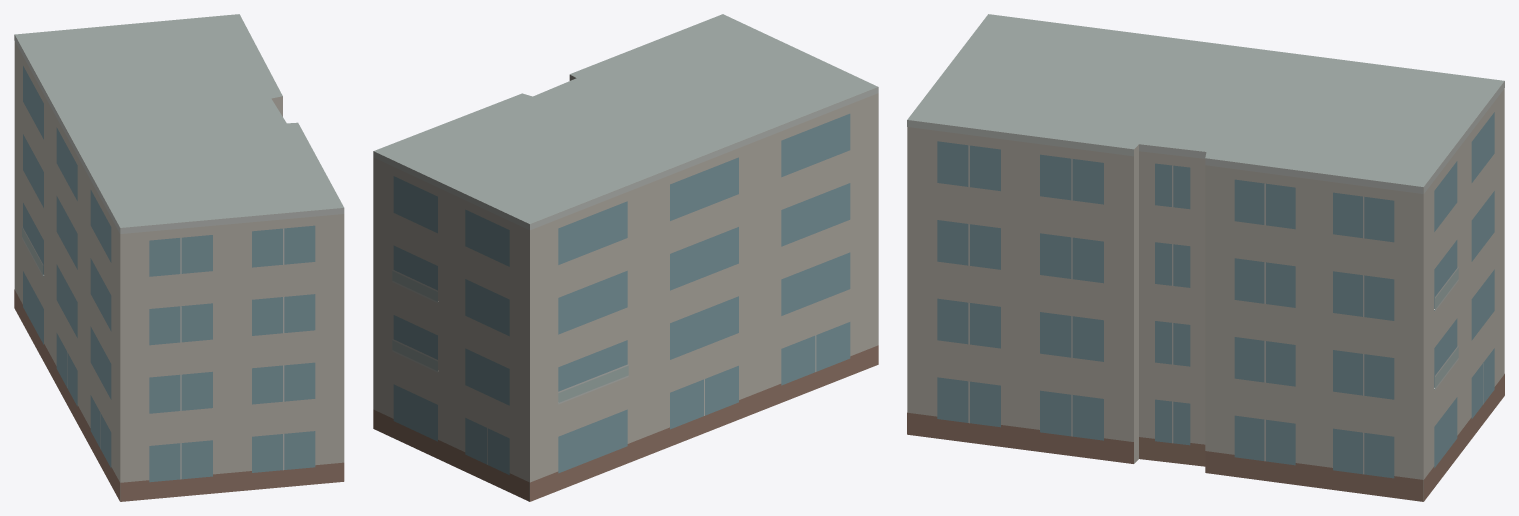
File: survey-upis-32545306.glb
3 views of the same model, side by side, from view 1: azimuth 30°, elevation 25°; view 2: azimuth 150°, elevation 25°; view 3: azimuth 270°, elevation 25° (orthographic). The views are drawn at different scales.
Visible parts, largest first — view 1: survey-upis-32545306.tmp; view 2: survey-upis-32545306.tmp; view 3: survey-upis-32545306.tmp.
Part boxes in pixels (left/top/right/bottom): survey-upis-32545306.tmp: left=14, top=14, right=344, bottom=501; survey-upis-32545306.tmp: left=373, top=14, right=878, bottom=501; survey-upis-32545306.tmp: left=907, top=14, right=1504, bottom=501.
Size of the model in its own units: 12.87 by 10.9 by 18.77.
